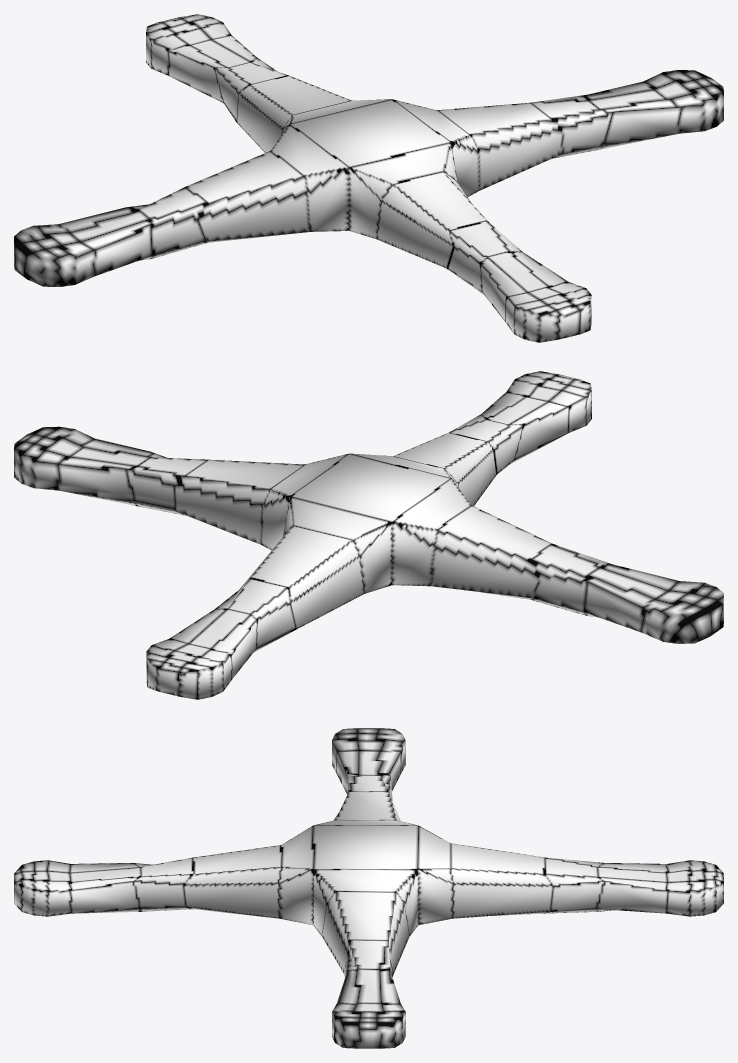
File: quad.obj
The picture shows the model from 3 angles, top to bottom: view 1: azimuth 30°, elevation 25°; view 2: azimuth 150°, elevation 25°; view 3: azimuth 270°, elevation 25°; orthographic projection. The views are drawn at different scales.
Visible parts, largest first — view 1: quadcopter; view 2: quadcopter; view 3: quadcopter.
Part boxes in pixels (left/top/right/bottom): quadcopter: left=14, top=14, right=723, bottom=342; quadcopter: left=14, top=371, right=723, bottom=699; quadcopter: left=14, top=728, right=723, bottom=1048.
Bounding box in the file's own units: 2.41 × 0.2227 × 2.41.
1 material, 1 textured.
